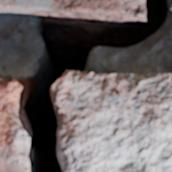brick: (0, 0, 144, 22)
broken_brick: (53, 71, 171, 171), (0, 90, 27, 171), (0, 78, 9, 86)
crack: (0, 0, 169, 171)
